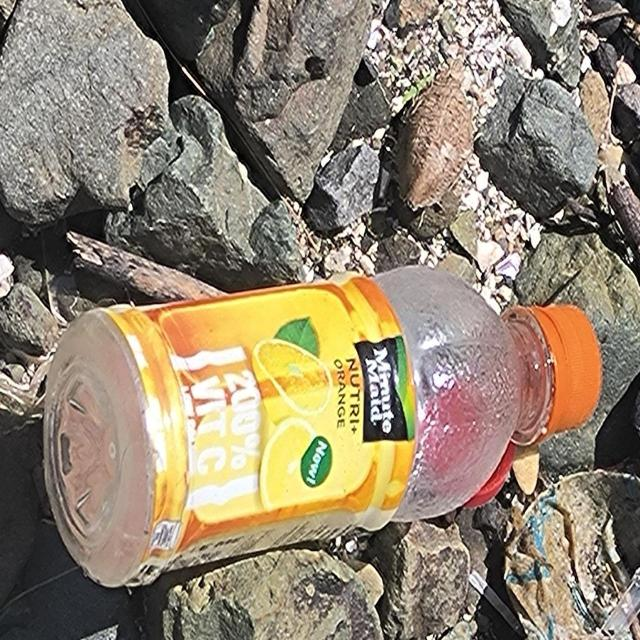litter: (36, 268, 604, 592)
